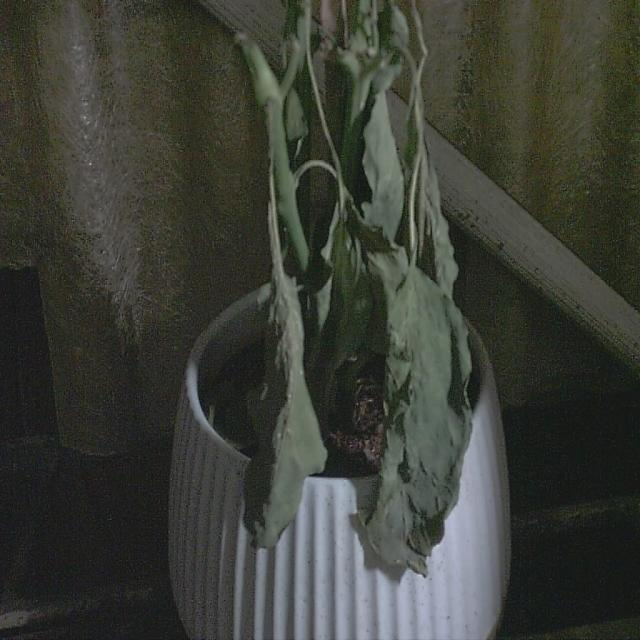Leaf: (356, 260, 473, 579), (242, 268, 327, 553)
